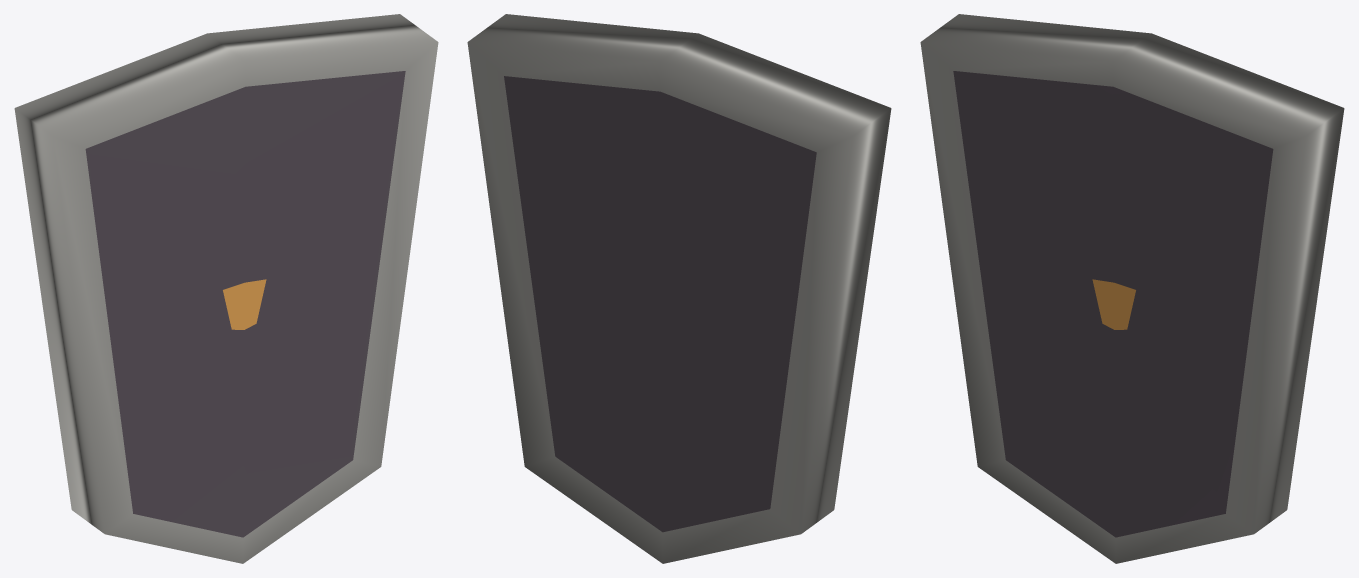
The model's file is Shield.fbx.
3 renders of one model, left to right at view 1: azimuth 30°, elevation 25°; view 2: azimuth 150°, elevation 25°; view 3: azimuth 330°, elevation 25°, orthographic.
Parts seen in each view (by area): view 1: Cube.003; view 2: Cube.003; view 3: Cube.003.
Part boxes in pixels (x1,y1,x2,y2): Cube.003: [14, 14, 438, 563]; Cube.003: [467, 14, 891, 563]; Cube.003: [920, 14, 1344, 563].
Bounding box in the file's own units: 34.22 × 42.78 × 5.91.
